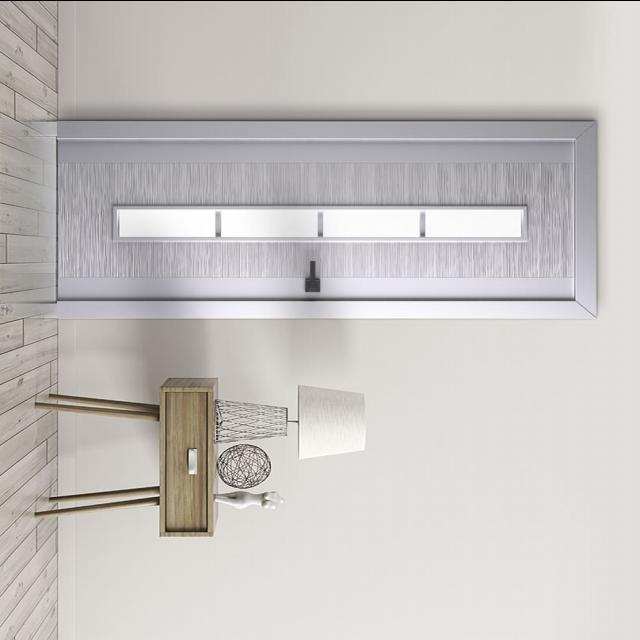close: (42, 125, 578, 300)
